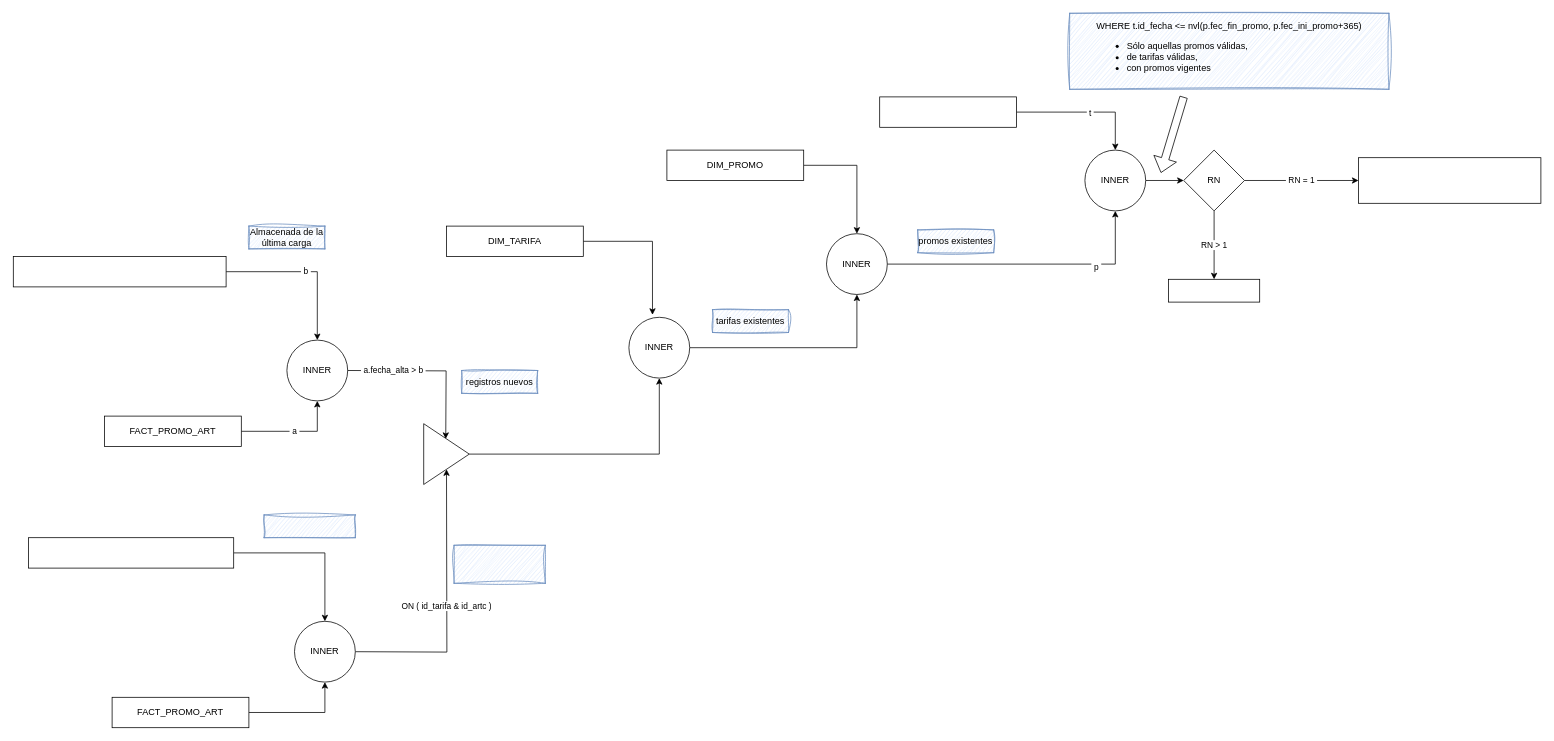
Some shapes in this 1554 by 741 pixel diagram are drawn without their labels. The centre of each missing label's shape, as x and y in pixels:
"AUX_PROMO_ART (REGISTROS INCREMENTAL)" goes at (1449,180).
"COMC_AXBO_FACT_PROMO_ART" goes at (131,552).
"descartados" goes at (1214,290).
"DIM_TIEMPO" goes at (947,111).
"registros borrados" goes at (309,526).
"se deberían recargar los updates, las bajas se filtrarían" goes at (499,564).
"UNION" goes at (446,453).
"Última fecha de alta cargada cargada (VARIABLE o tabla de control)" goes at (119,271).
